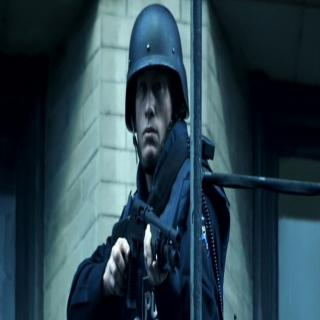gun: (102, 186, 184, 319)
